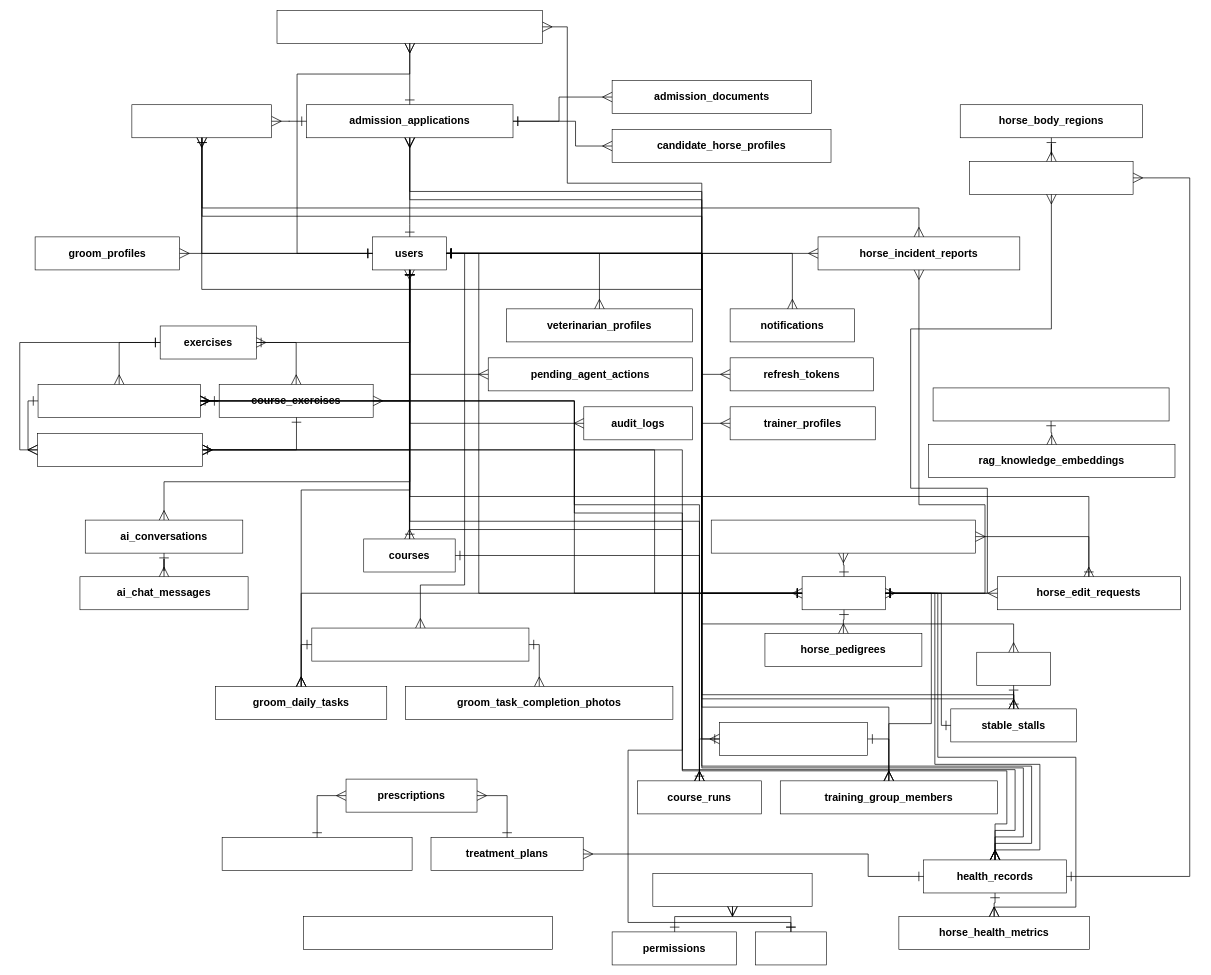
The diagram is 1211 pixels wide and 975 high, and some of its shapes have lost their labels. Each missing label, with the centre of its shape:
"areas" goes at point (1013, 668).
"care_schedule" goes at point (201, 121).
"groom_task_completions" goes at point (420, 644).
"health_conditions" goes at point (1051, 177).
"horse_edit_request_documents" goes at point (843, 536).
"horses" goes at point (843, 593).
"medical_symptom_mappings" goes at point (428, 933).
"preventive_protocols" goes at point (317, 854).
"racing_readiness_assessments" goes at point (409, 26).
"rag_knowledge_documents" goes at point (1050, 404).
"role_permissions" goes at point (732, 890).
"roles" goes at point (790, 948).
"training_groups" goes at point (793, 738).
"training_sessions" goes at point (118, 400).
"training_workouts" goes at point (120, 449).
